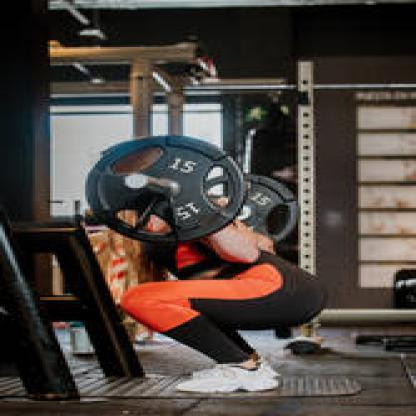Barbell: (76, 127, 252, 252)
